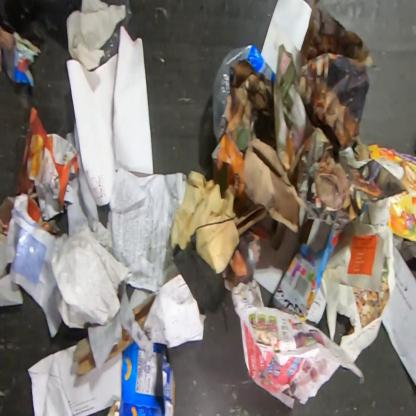cardboard: (105, 340, 177, 415), (365, 143, 415, 245)
soft_plastic: (14, 106, 81, 222), (212, 44, 276, 146), (0, 23, 43, 89)
